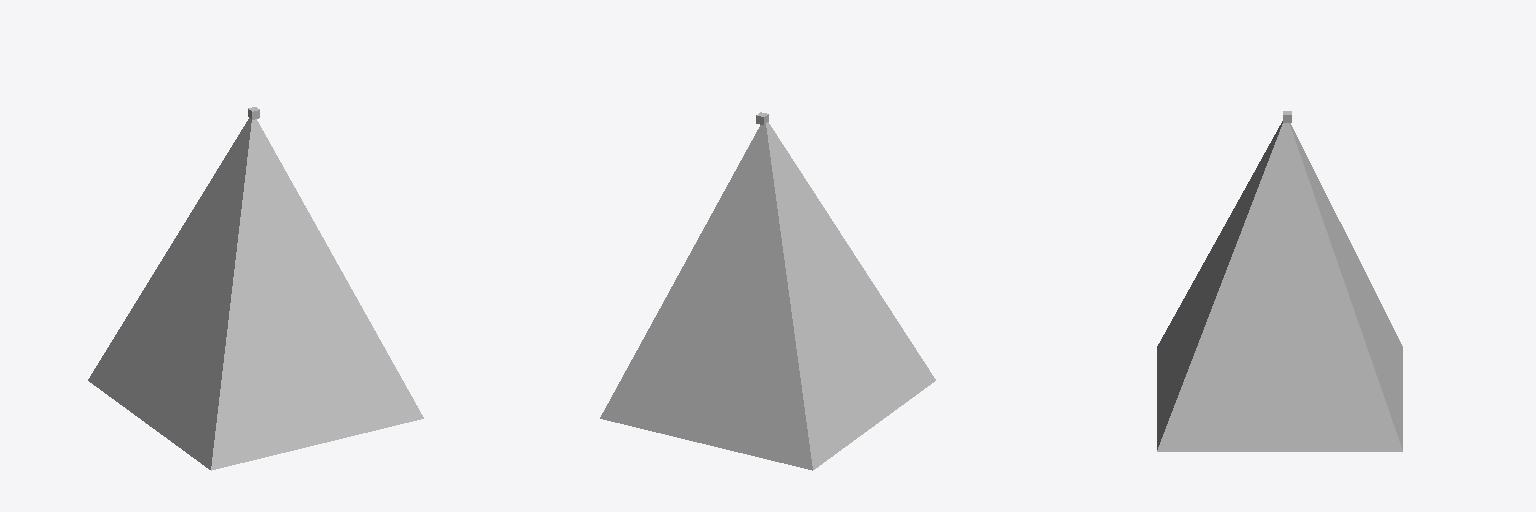
File: kingcircle.obj
The picture shows the model from 3 angles: view 1: azimuth 30°, elevation 25°; view 2: azimuth 150°, elevation 25°; view 3: azimuth 270°, elevation 25°; orthographic projection.
Visible parts, largest first — view 1: Plane; view 2: Plane; view 3: Plane.
Part boxes in pixels (bbox=[...]): Plane: bbox=[88, 117, 423, 470]; Plane: bbox=[600, 122, 935, 470]; Plane: bbox=[1157, 121, 1402, 451].
Bounding box in the file's own units: 2.85 × 3.67 × 2.85.